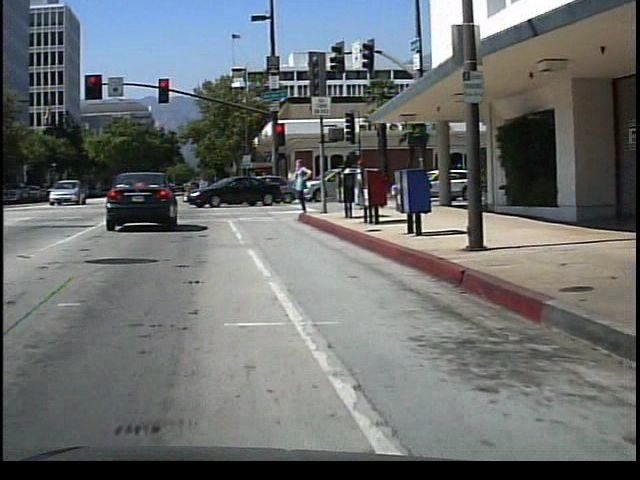person: (293, 152, 319, 217), (356, 154, 375, 210), (342, 155, 361, 210)
